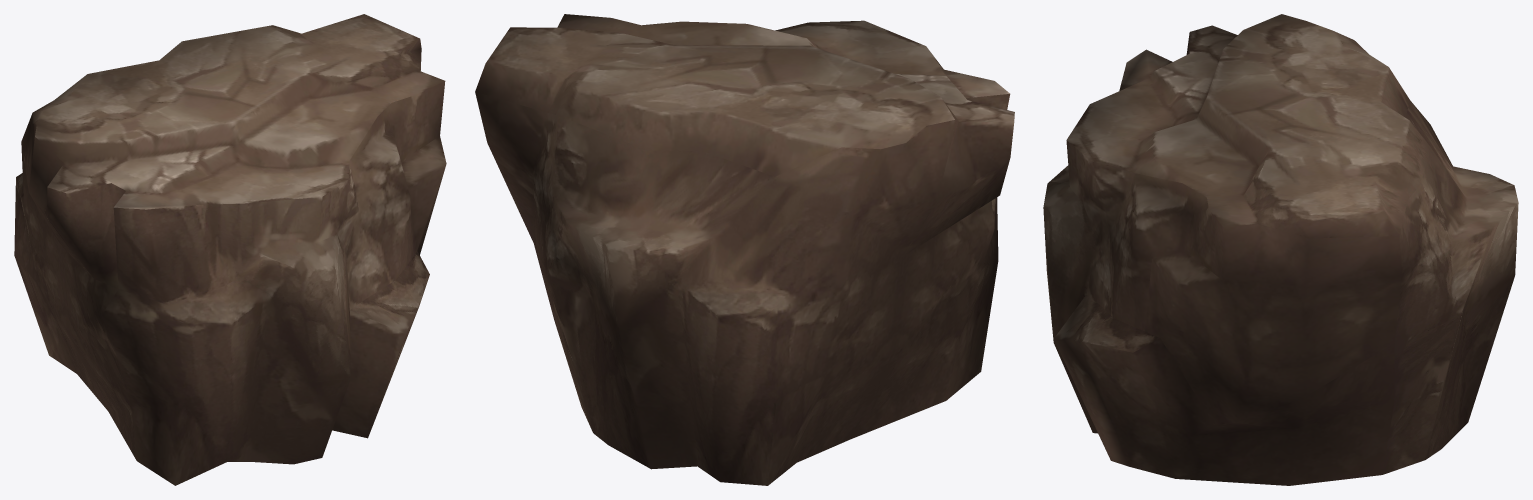
The model's file is Lty_st.FBX.
3 renders of one model, left to right at view 1: azimuth 30°, elevation 25°; view 2: azimuth 150°, elevation 25°; view 3: azimuth 270°, elevation 25°, orthographic. The views are drawn at different scales.
Parts seen in each view (by area): view 1: Lty_st; view 2: Lty_st; view 3: Lty_st.
Part boxes in pixels (x1=…): Lty_st: x1=14, y1=14, x2=446, y2=485; Lty_st: x1=475, y1=14, x2=1014, y2=485; Lty_st: x1=1043, y1=14, x2=1518, y2=485.
Bounding box in the file's own units: 1015 × 947 × 699.
